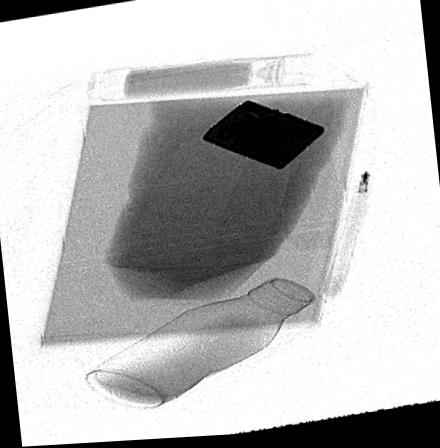Lighter: (201, 102, 326, 174)
